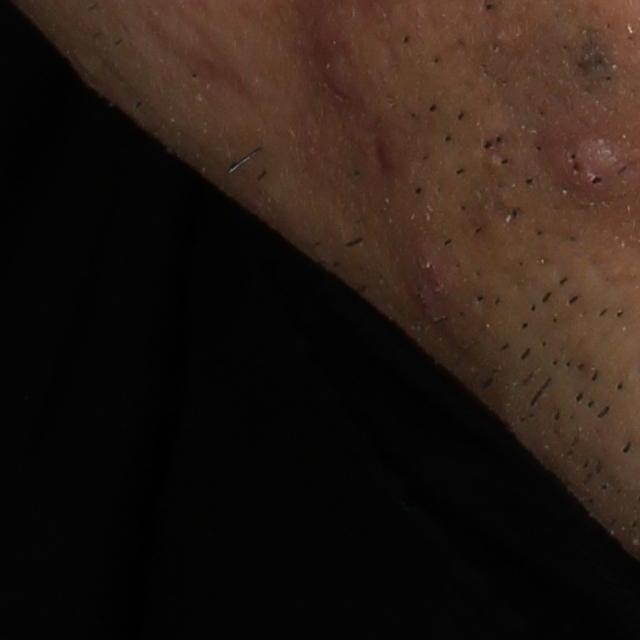nevus: (563, 25, 620, 102)
